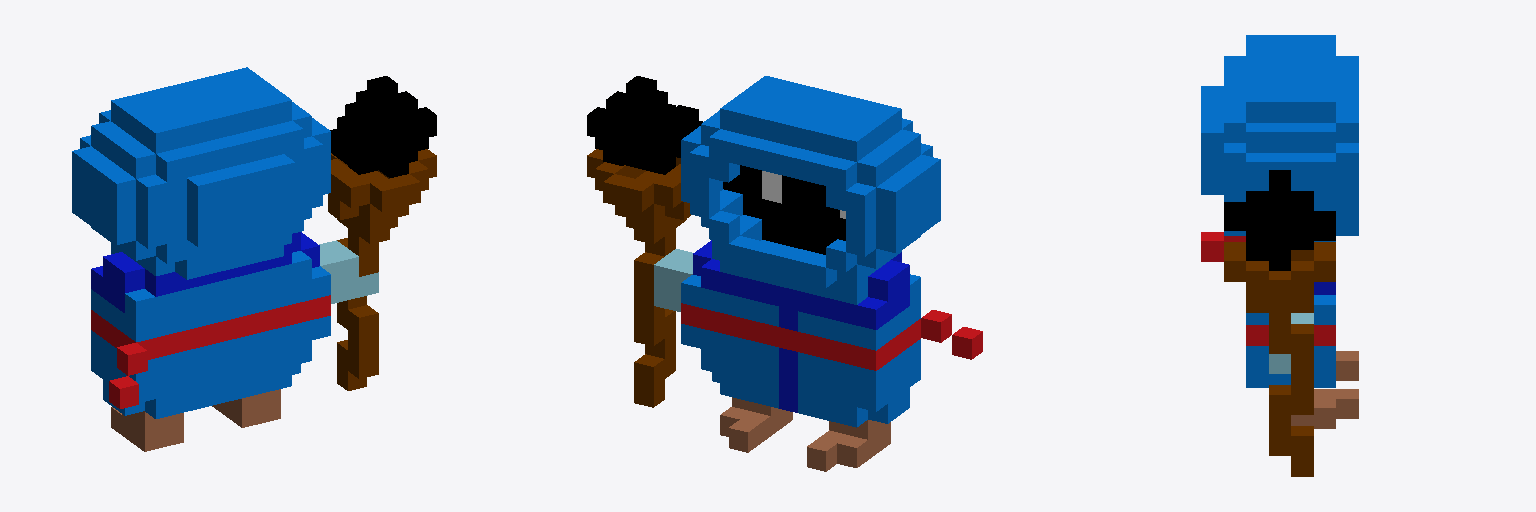
The picture shows the model from 3 angles: view 1: azimuth 30°, elevation 25°; view 2: azimuth 150°, elevation 25°; view 3: azimuth 270°, elevation 25°; orthographic projection.
Parts seen in each view (by area): view 1: cube; view 2: cube; view 3: cube.
Boxes of the visible parts, x1,y1,x2,y2 form: cube: [72, 67, 436, 451]; cube: [587, 76, 982, 471]; cube: [1201, 35, 1358, 476].
Bounding box in the file's own units: 18 × 16 × 7.
Materials: 1 (1 with a texture image).